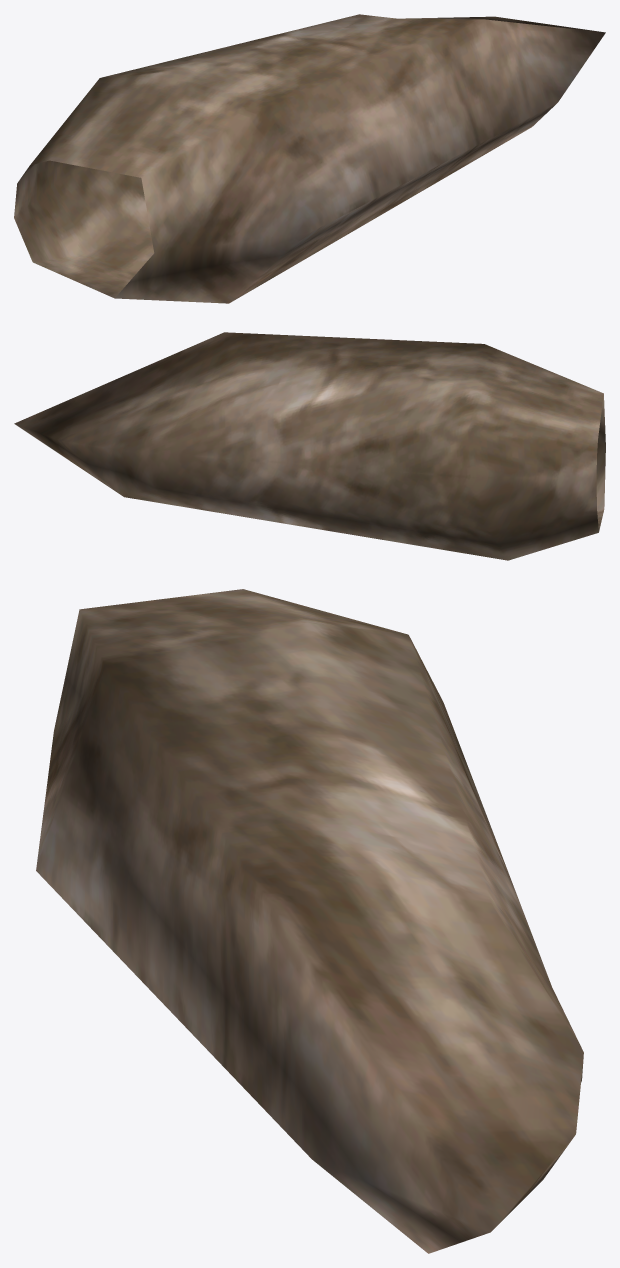
The model's file is OVERHILL_A_01_ROCK69.fbx.
The picture shows the model from 3 angles, top to bottom: view 1: azimuth 30°, elevation 25°; view 2: azimuth 150°, elevation 25°; view 3: azimuth 270°, elevation 25°; orthographic projection. The views are drawn at different scales.
Parts seen in each view (by area): view 1: OVERHILL_A_01_ROCK69; view 2: OVERHILL_A_01_ROCK69; view 3: OVERHILL_A_01_ROCK69.
Part boxes in pixels (x1=…): OVERHILL_A_01_ROCK69: x1=14, y1=14, x2=605, y2=303; OVERHILL_A_01_ROCK69: x1=14, y1=332, x2=605, y2=560; OVERHILL_A_01_ROCK69: x1=36, y1=589, x2=583, y2=1253.
Size of the model in its own units: 28507 by 8673 by 12611.
1 material, 1 textured.
